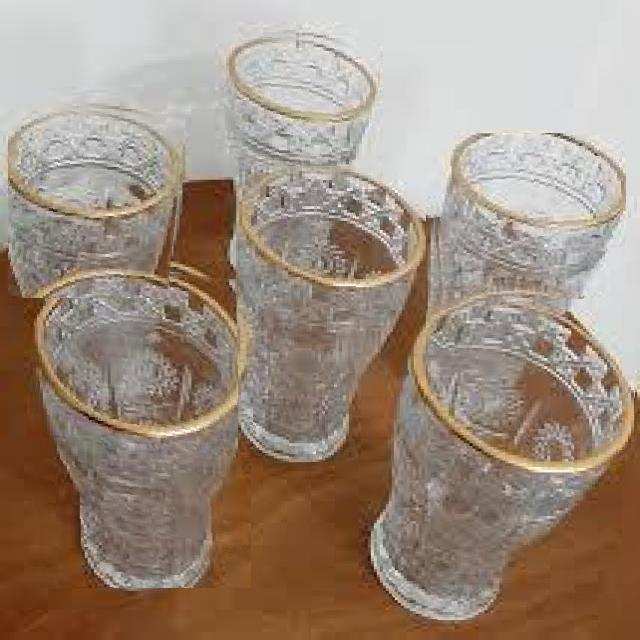Glass: (370, 295, 635, 620), (30, 258, 252, 588), (236, 162, 426, 462), (8, 101, 186, 298), (428, 133, 626, 310), (225, 28, 379, 166)
